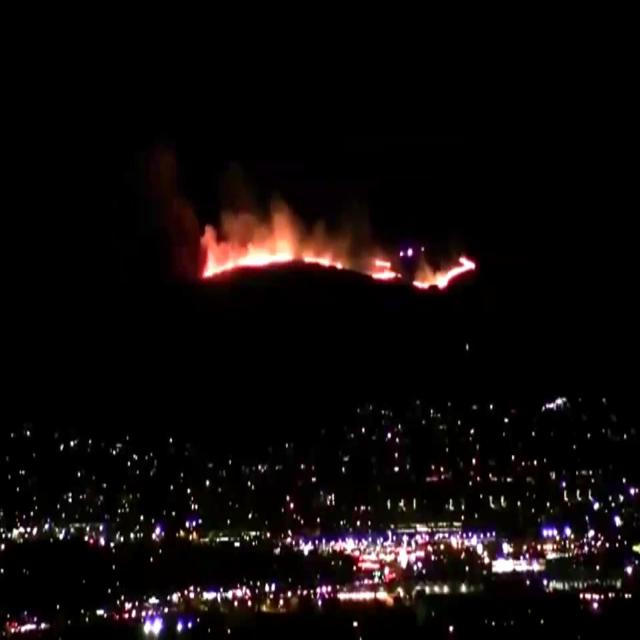Fire: (200, 204, 346, 272), (413, 254, 476, 288), (373, 254, 401, 282)
